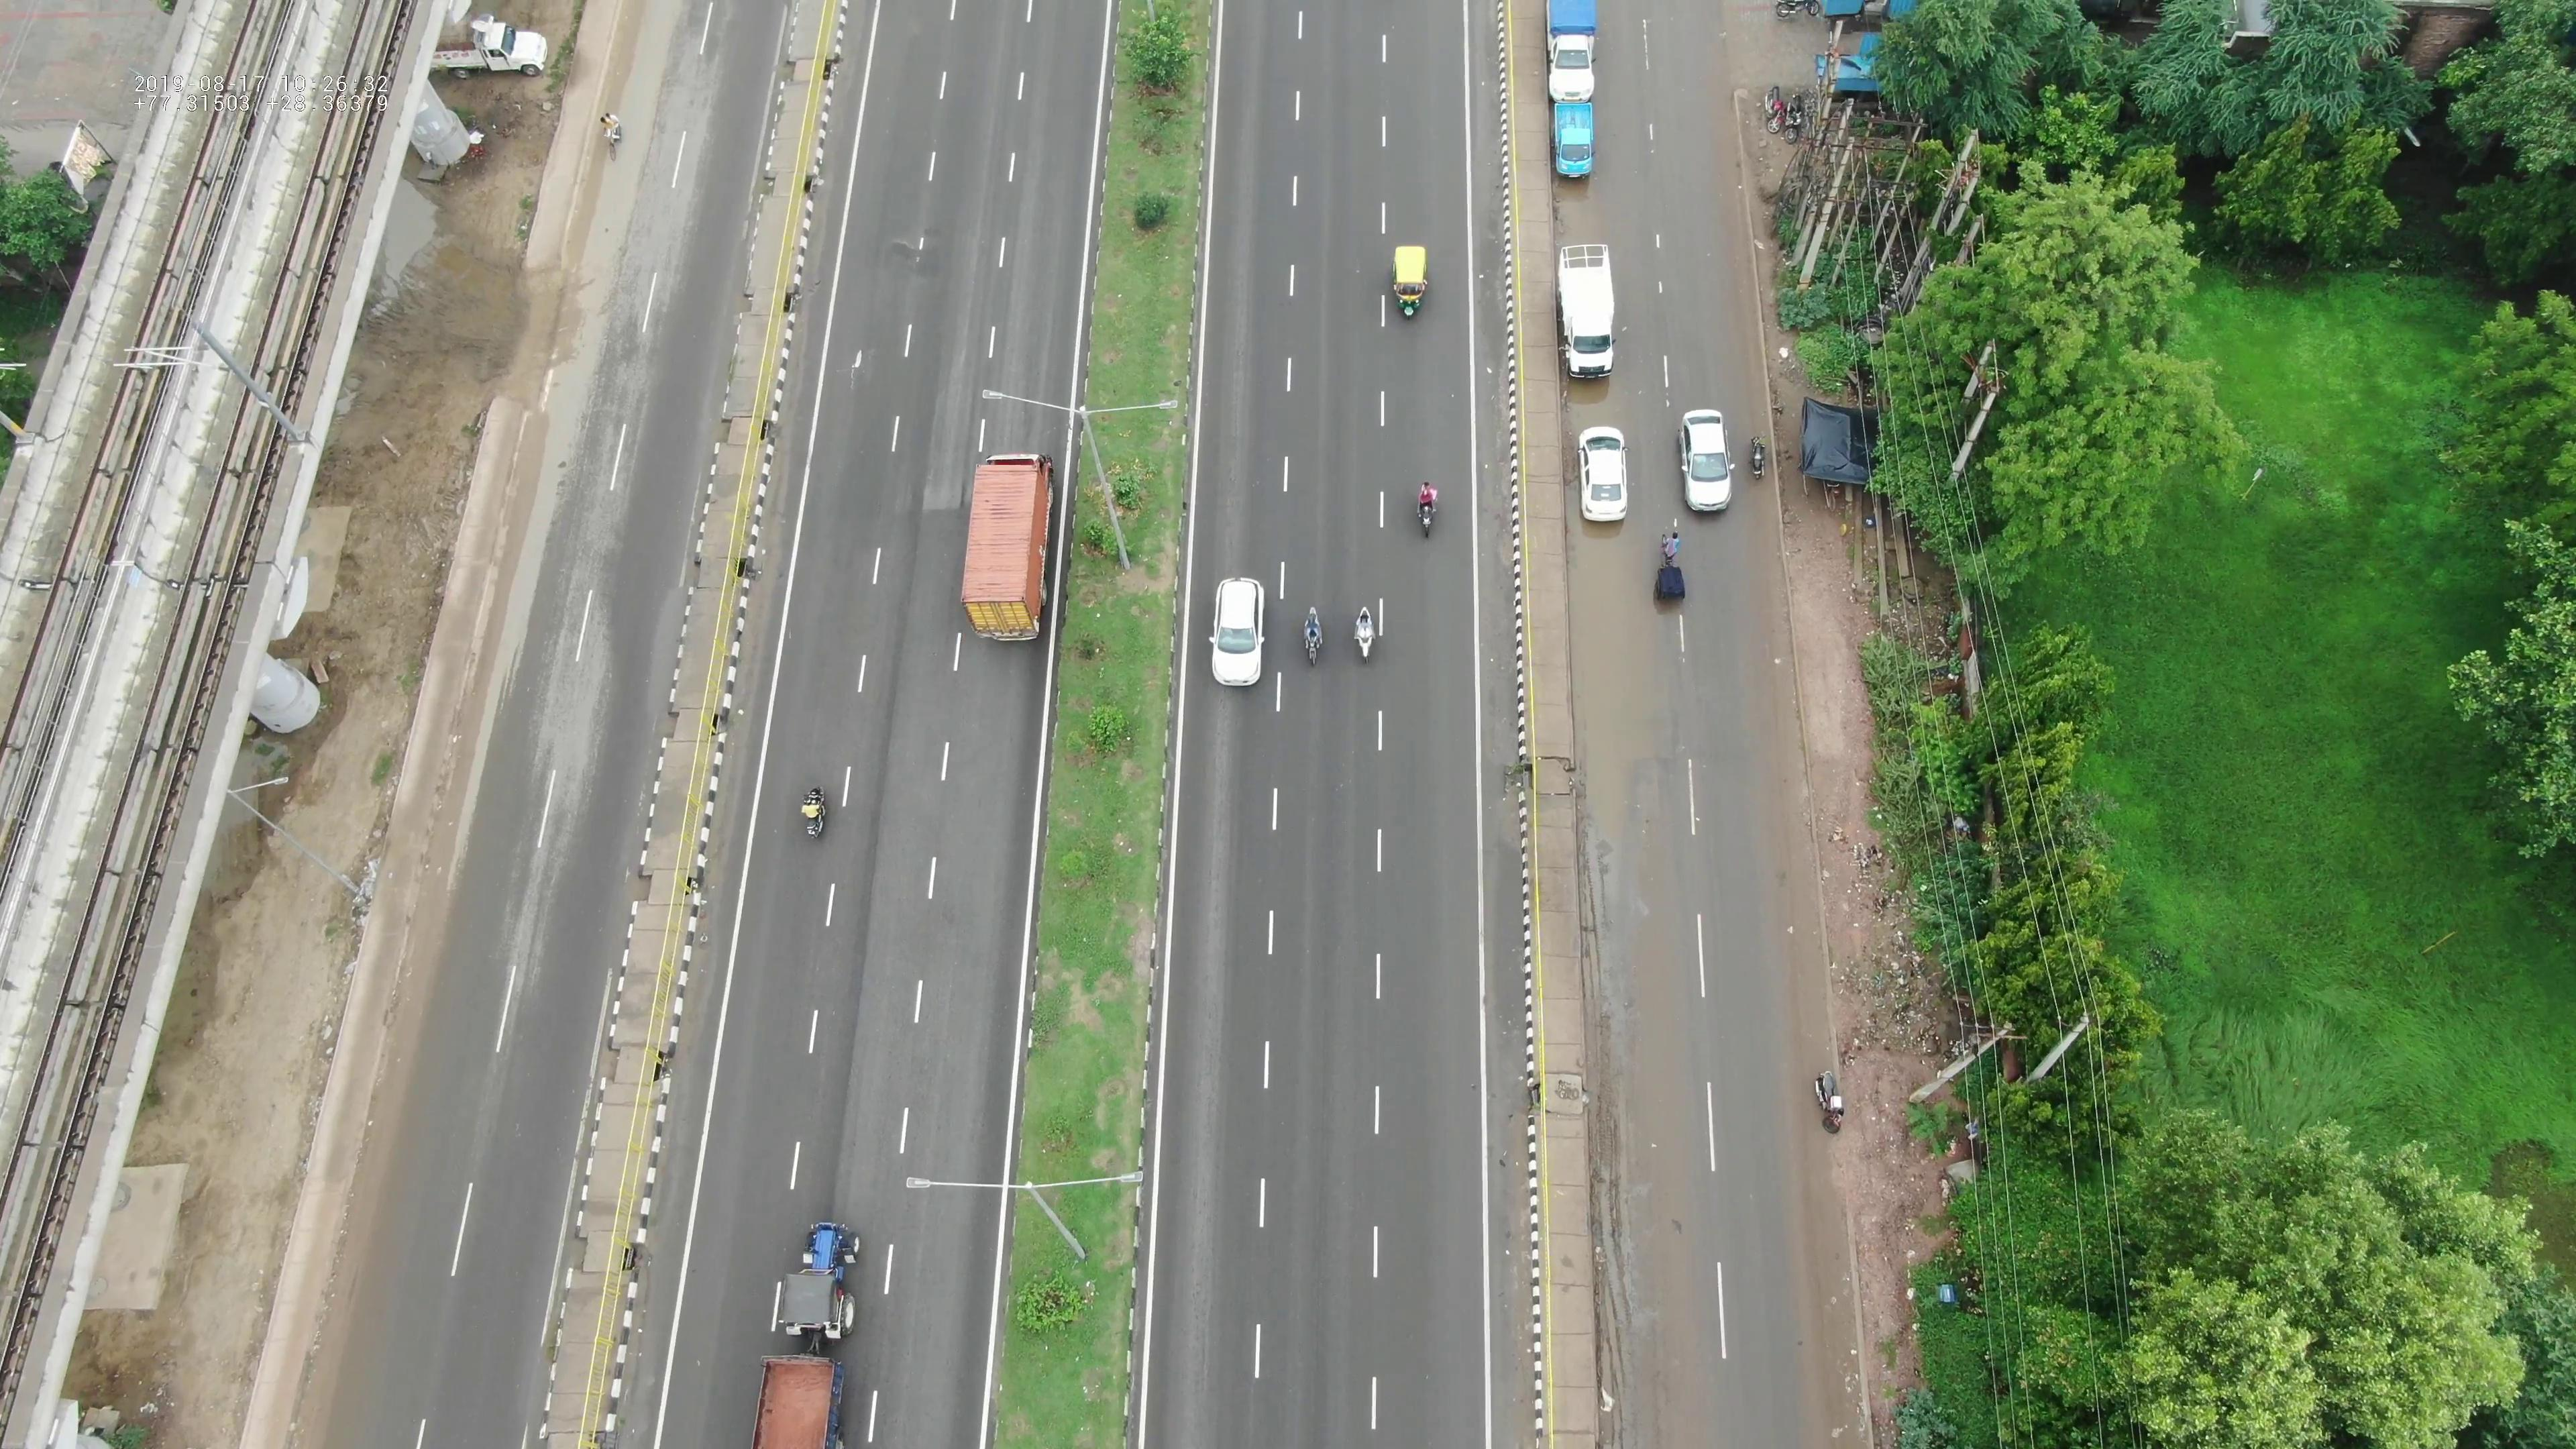Muddy_road: (1580, 1010, 1675, 1415)
Waterlogging: (1560, 543, 1668, 844)
